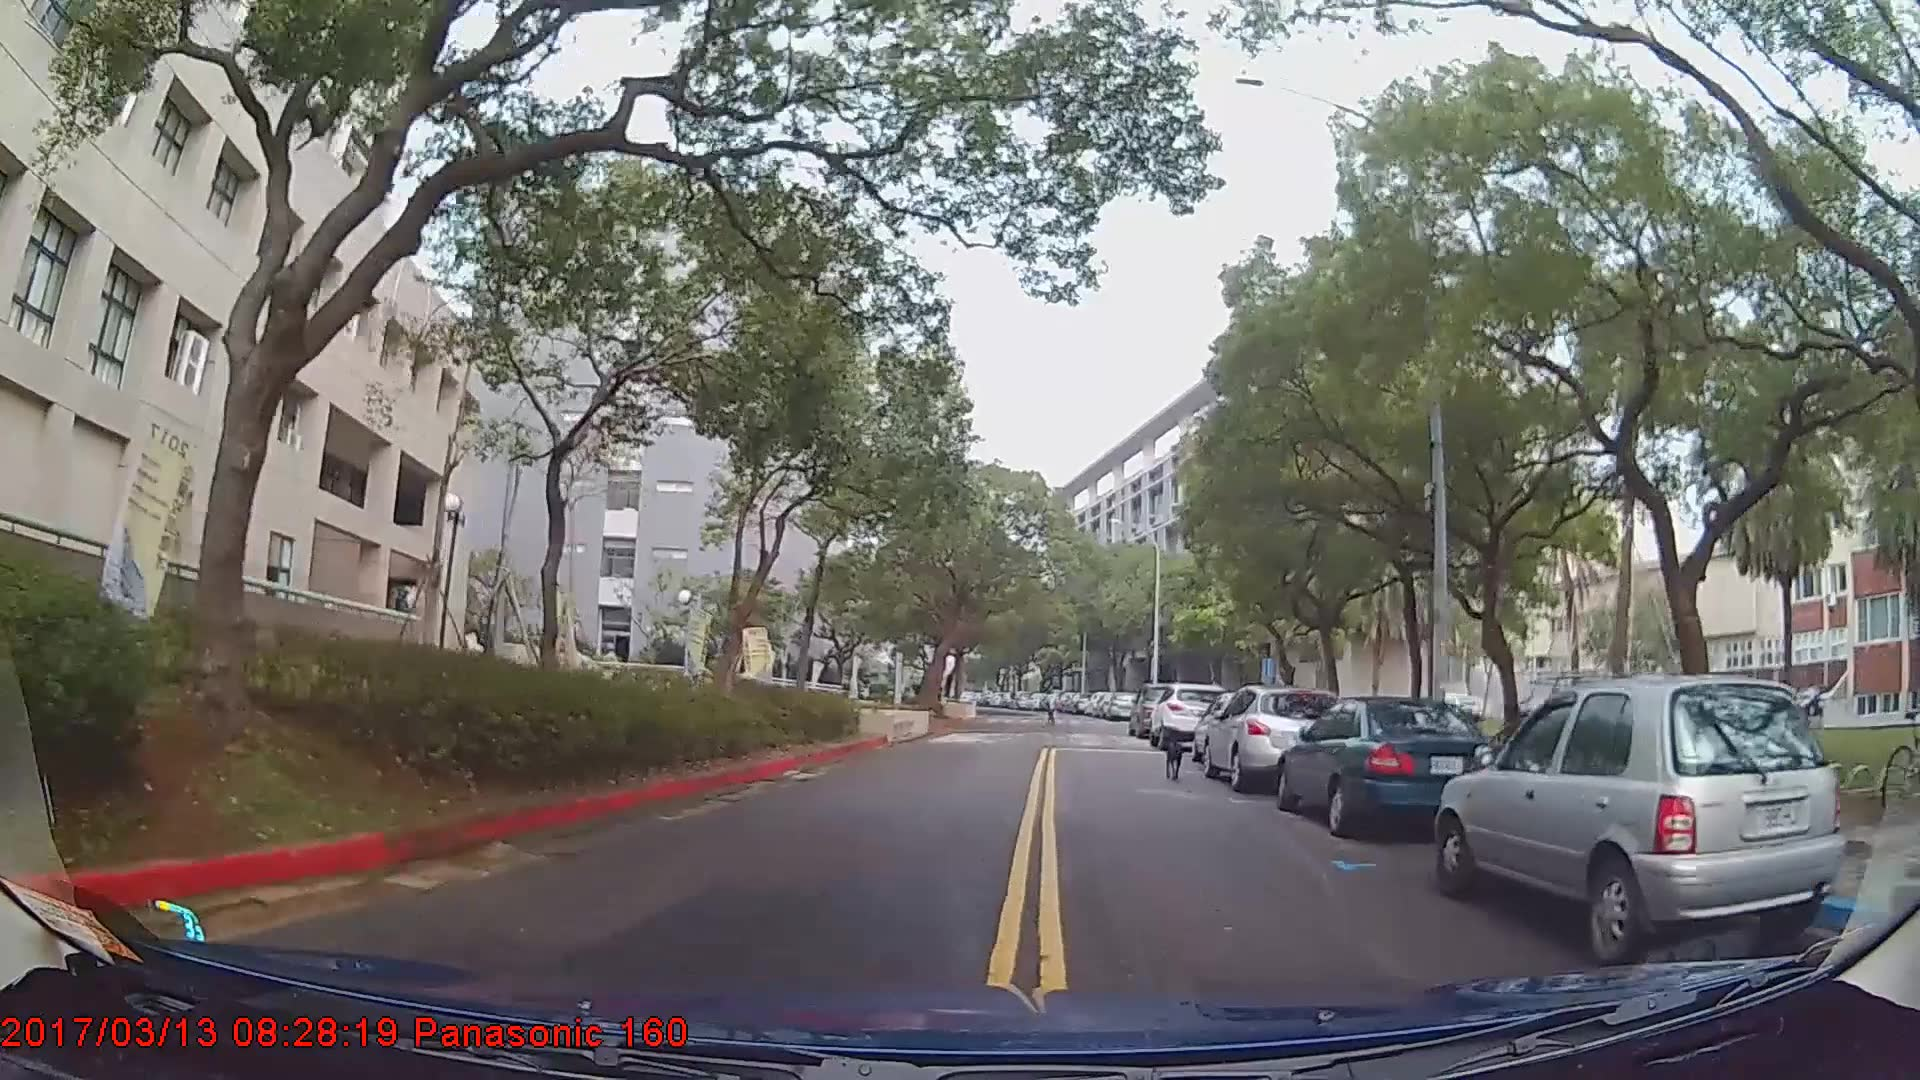pedestrian: (1044, 690, 1064, 727)
vehicle: (1436, 671, 1845, 956), (1275, 694, 1516, 840), (1200, 685, 1346, 790), (1150, 682, 1231, 750), (1104, 690, 1139, 722)
